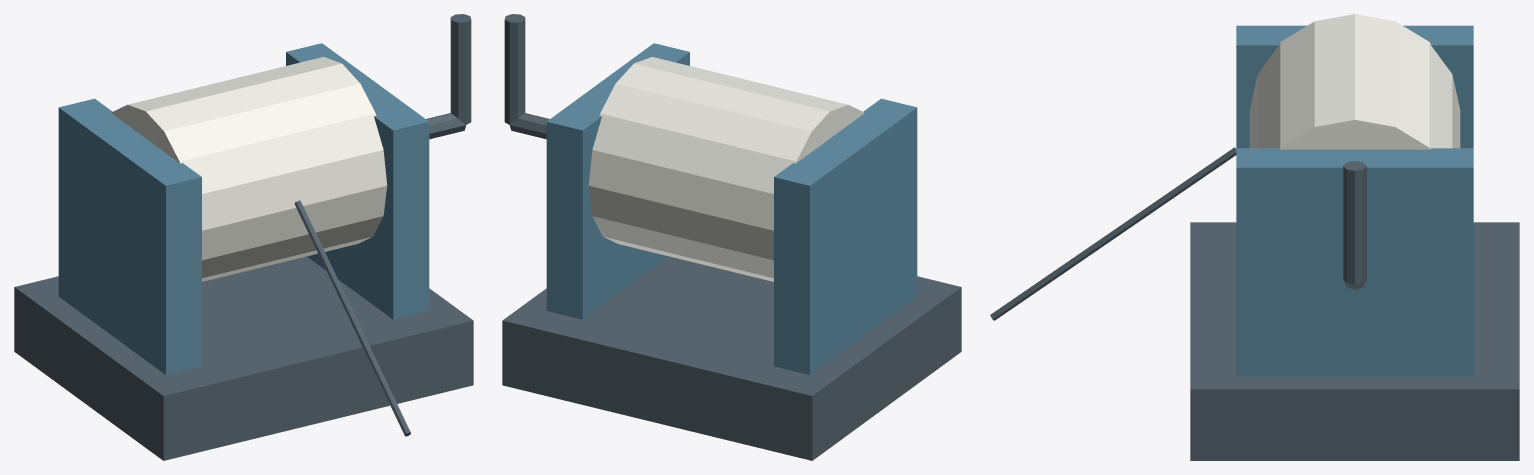
File: american-football-stadium-kit-goalpost-winch-6a02c7db__22395.glb
3 views of the same model, side by side, from view 1: azimuth 30°, elevation 25°; view 2: azimuth 150°, elevation 25°; view 3: azimuth 270°, elevation 25° (orthographic). The views are drawn at different scales.
Parts seen in each view (by area): view 1: goalpost-winch; view 2: goalpost-winch; view 3: goalpost-winch.
Part boxes in pixels (x1,y1,x2,y2): goalpost-winch: (14, 14, 473, 460); goalpost-winch: (502, 14, 961, 460); goalpost-winch: (990, 14, 1519, 460).
Bounding box in the file's own units: 0.738 × 0.55 × 0.8036.
